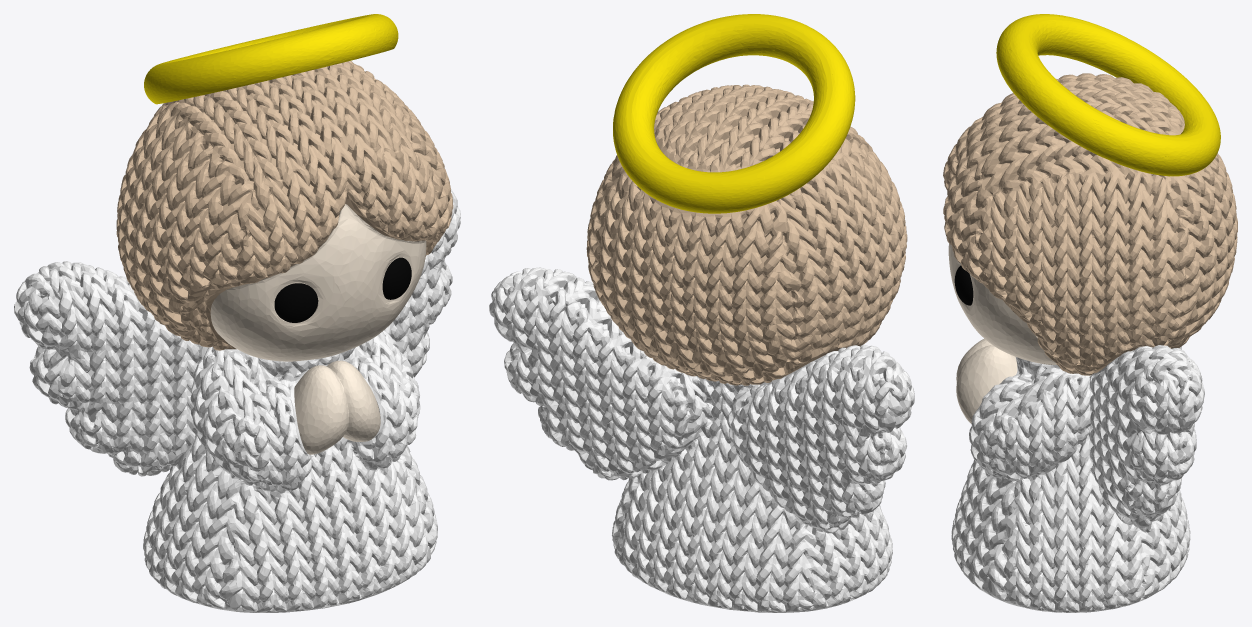
The model's file is angel.glb.
3 renders of one model, left to right at view 1: azimuth 30°, elevation 25°; view 2: azimuth 150°, elevation 25°; view 3: azimuth 270°, elevation 25°, orthographic. The views are drawn at different scales.
Parts seen in each view (by area): view 1: cuerpo, pelo, piel, aureola, ojos; view 2: cuerpo, pelo, aureola; view 3: pelo, cuerpo, aureola, piel, ojos.
Boxes of the visible parts, <box> form: cuerpo: <box>14,189,460,612</box>; pelo: <box>116,61,453,350</box>; piel: <box>210,204,426,454</box>; aureola: <box>144,14,398,104</box>; ojos: <box>274,257,411,322</box>; cuerpo: <box>489,267,914,612</box>; pelo: <box>586,84,907,385</box>; aureola: <box>613,14,855,213</box>; pelo: <box>943,73,1237,375</box>; cuerpo: <box>951,345,1204,612</box>; aureola: <box>996,14,1220,176</box>; piel: <box>948,243,1056,423</box>; ojos: <box>954,265,973,305</box>.
Bounding box in the file's own units: 0.0575 × 0.0691 × 0.0353.
